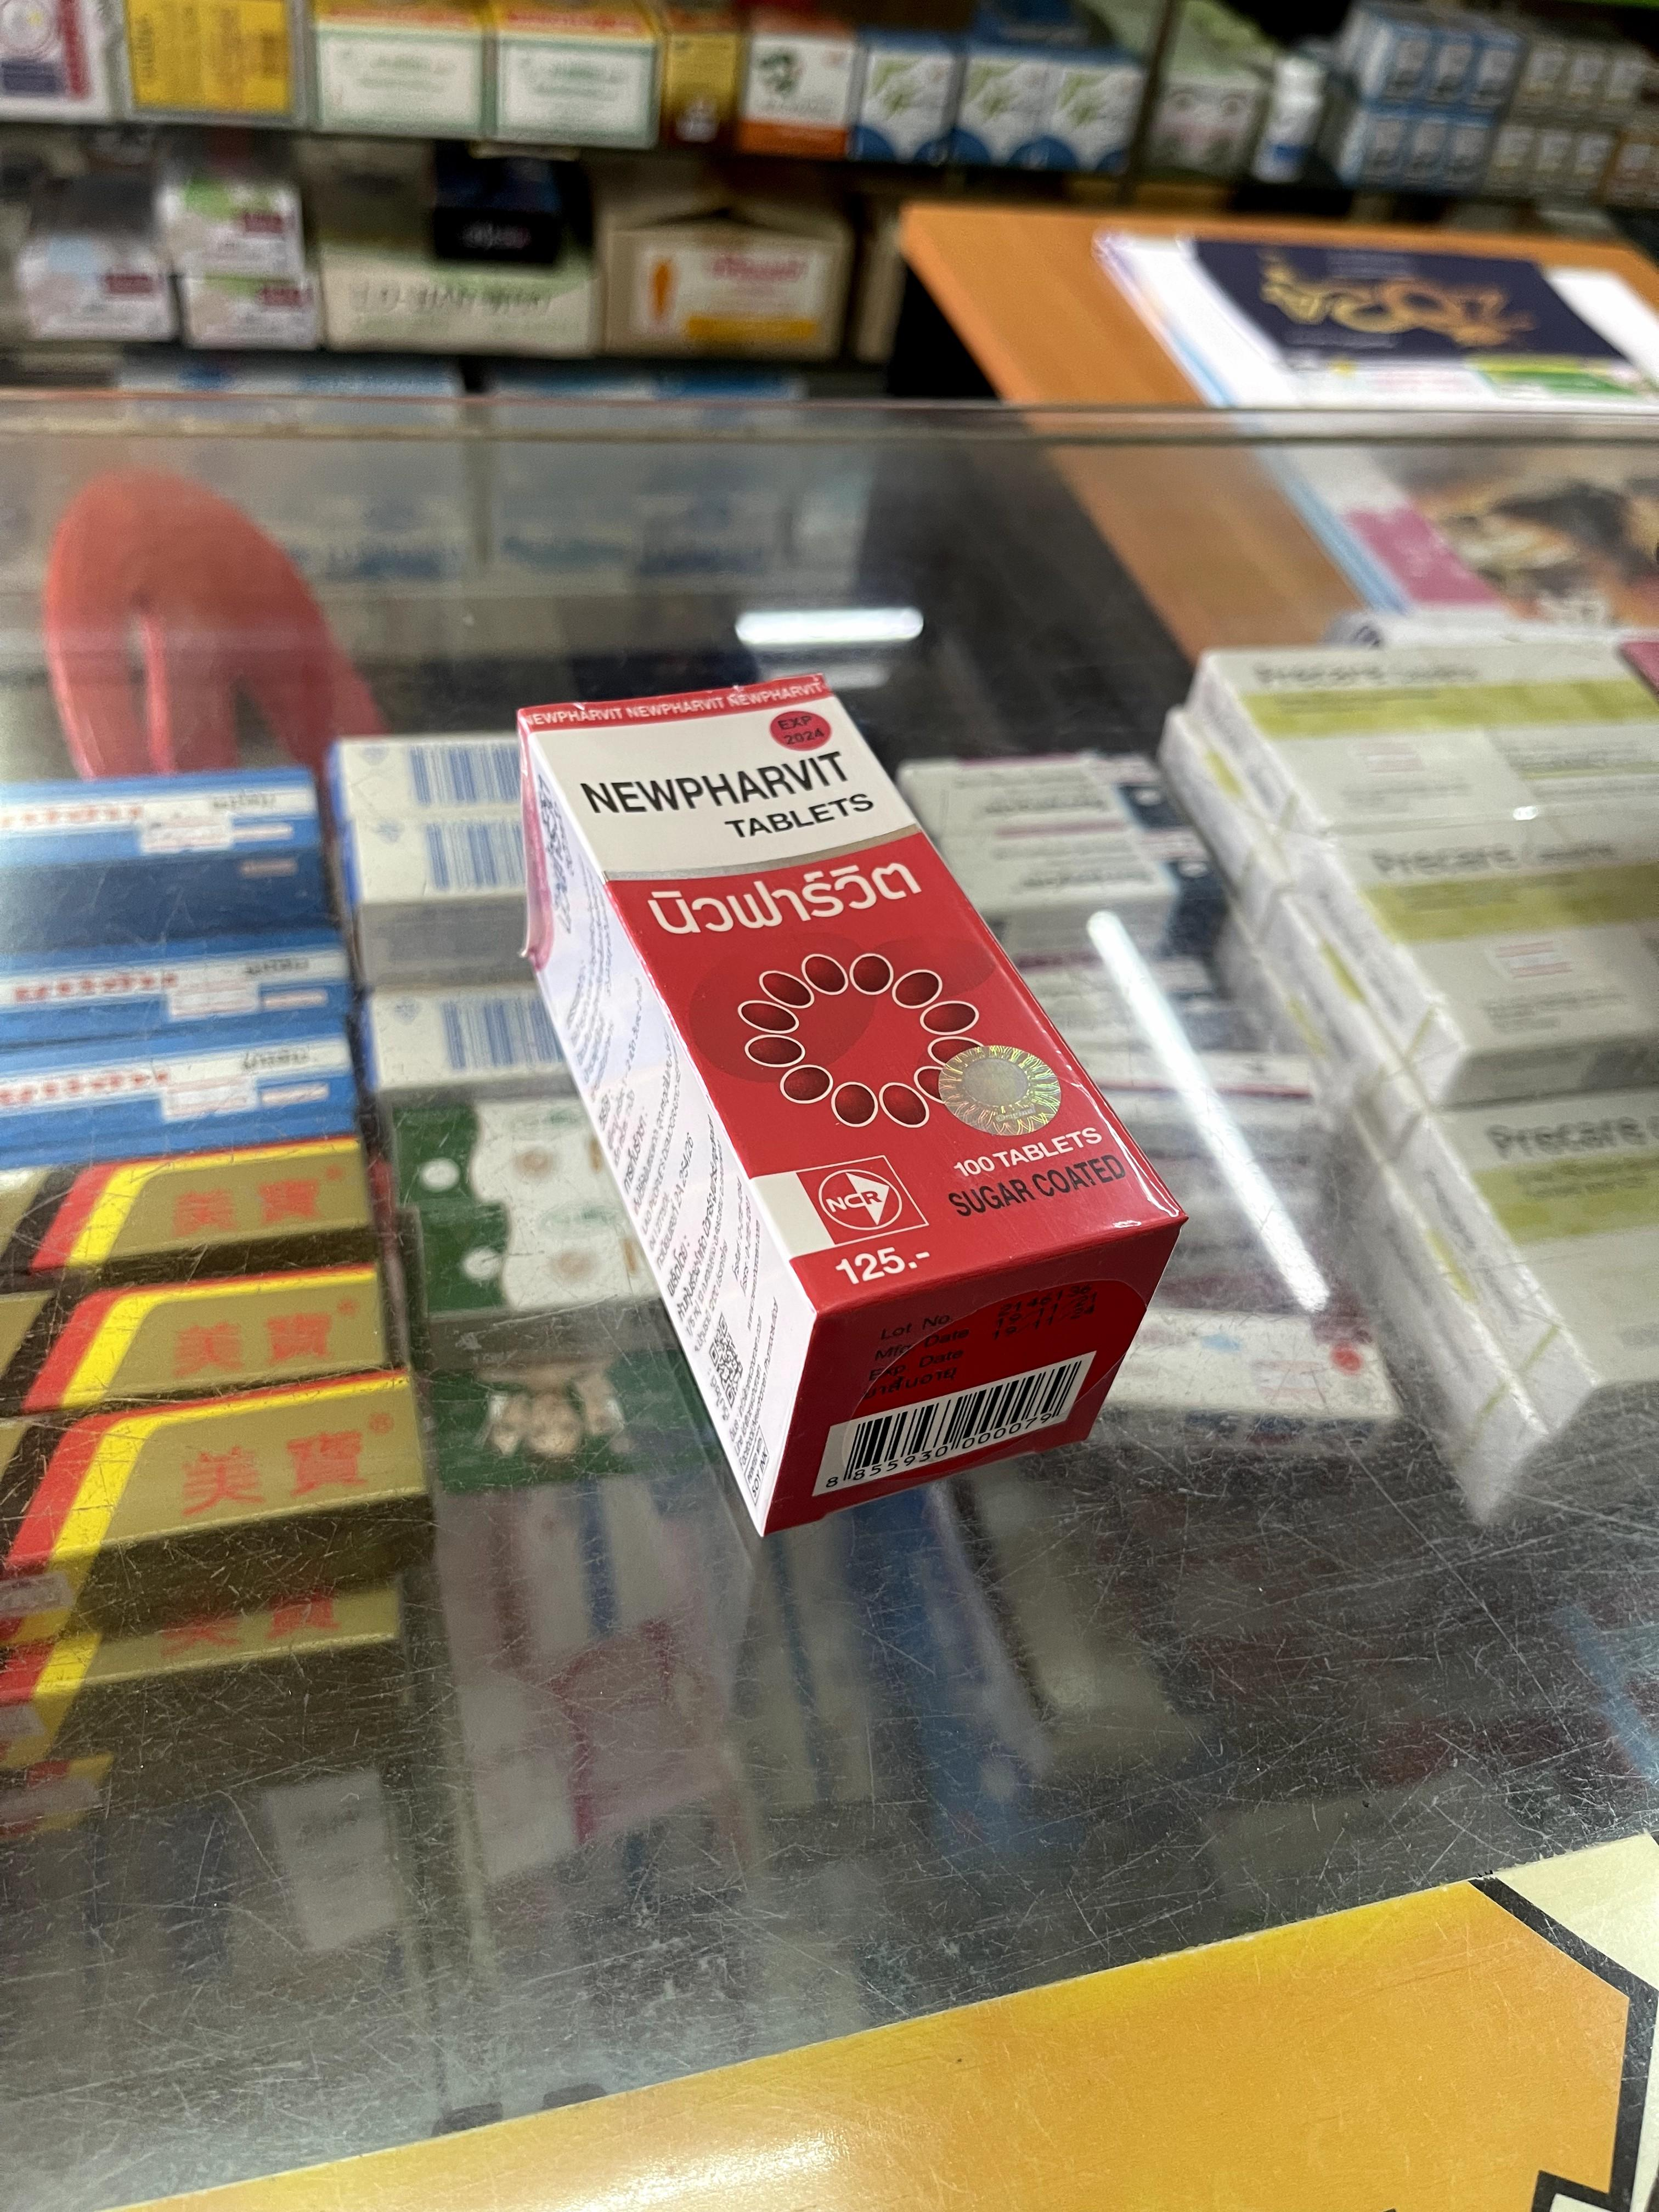Newpharvit: (516, 678, 1176, 1536)
